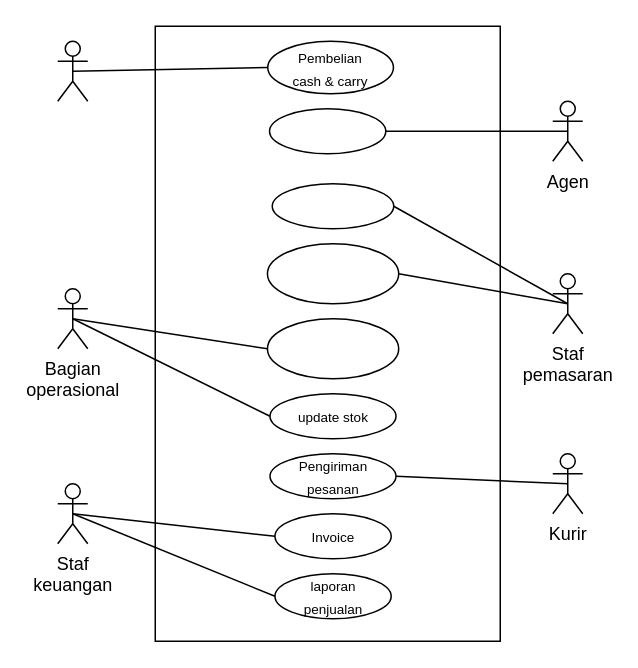
Image size: 638x668. Some labels were removed from this diagram. Here are the shapes that lost their labels. From the top down, the box of each, then its label:
(56, 40, 88, 101): Customer
(268, 107, 386, 154): Pembelian Order
(271, 182, 394, 229): Input pesanan
(266, 242, 399, 304): Konfirmasi pesanan
(266, 317, 399, 379): mempersiapkan pesanan
